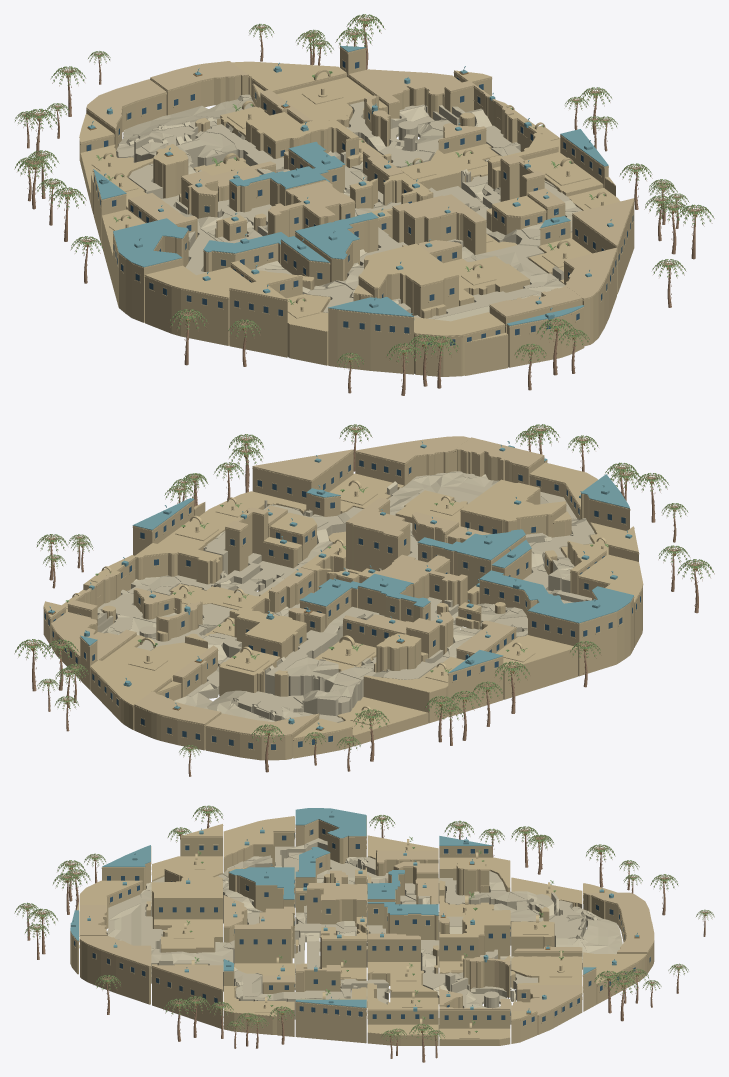
Rendered from anubis.glb.
3 views of the same model, one above another, from view 1: azimuth 30°, elevation 25°; view 2: azimuth 150°, elevation 25°; view 3: azimuth 270°, elevation 25° (orthographic). The views are drawn at different scales.
Visible parts, largest first — view 1: ARENA_lower_stone, ARENA_lower_paving, ARENA_lower_roof, ARENA_lower_metal, ARENA_lower_leaf, ARENA_lower_bark, ARENA_lower_glass; view 2: ARENA_lower_stone, ARENA_lower_paving, ARENA_lower_roof, ARENA_lower_metal, ARENA_lower_leaf, ARENA_lower_bark, ARENA_lower_glass; view 3: ARENA_lower_stone, ARENA_lower_paving, ARENA_lower_roof, ARENA_lower_metal, ARENA_lower_leaf, ARENA_lower_bark, ARENA_lower_glass.
Part boxes in pixels (left/top/right/bottom): ARENA_lower_stone: left=79, top=46, right=634, bottom=376; ARENA_lower_paving: left=116, top=94, right=582, bottom=321; ARENA_lower_roof: left=86, top=61, right=634, bottom=317; ARENA_lower_metal: left=88, top=45, right=613, bottom=325; ARENA_lower_leaf: left=15, top=14, right=713, bottom=367; ARENA_lower_bark: left=14, top=14, right=714, bottom=395; ARENA_lower_glass: left=86, top=61, right=633, bottom=345; ARENA_lower_stone: left=43, top=450, right=643, bottom=760; ARENA_lower_paving: left=97, top=471, right=594, bottom=722; ARENA_lower_roof: left=51, top=436, right=544, bottom=735; ARENA_lower_metal: left=48, top=441, right=633, bottom=729; ARENA_lower_leaf: left=15, top=424, right=713, bottom=756; ARENA_lower_bark: left=14, top=425, right=714, bottom=776; ARENA_lower_glass: left=44, top=460, right=640, bottom=749; ARENA_lower_stone: left=70, top=816, right=654, bottom=1045; ARENA_lower_paving: left=106, top=838, right=622, bottom=1031; ARENA_lower_roof: left=80, top=850, right=654, bottom=1015; ARENA_lower_metal: left=70, top=808, right=638, bottom=1013; ARENA_lower_leaf: left=15, top=805, right=714, bottom=1040; ARENA_lower_bark: left=14, top=806, right=714, bottom=1062; ARENA_lower_glass: left=74, top=828, right=650, bottom=1025.
Size of what is drawn, in the model's own units: 62.86 by 6.98 by 82.88.
